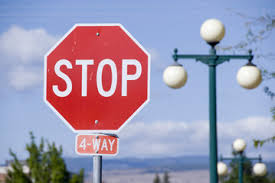Stop: (38, 10, 158, 133)
